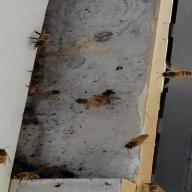Bee: (70, 90, 110, 112), (117, 134, 159, 150), (25, 28, 54, 50), (155, 68, 192, 85), (0, 145, 15, 167)
